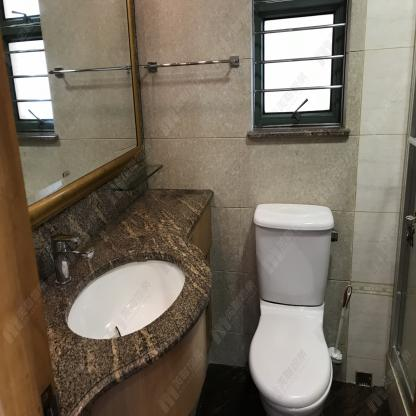Toilet: (248, 202, 338, 416)
Toilet Sink: (39, 218, 211, 415)
